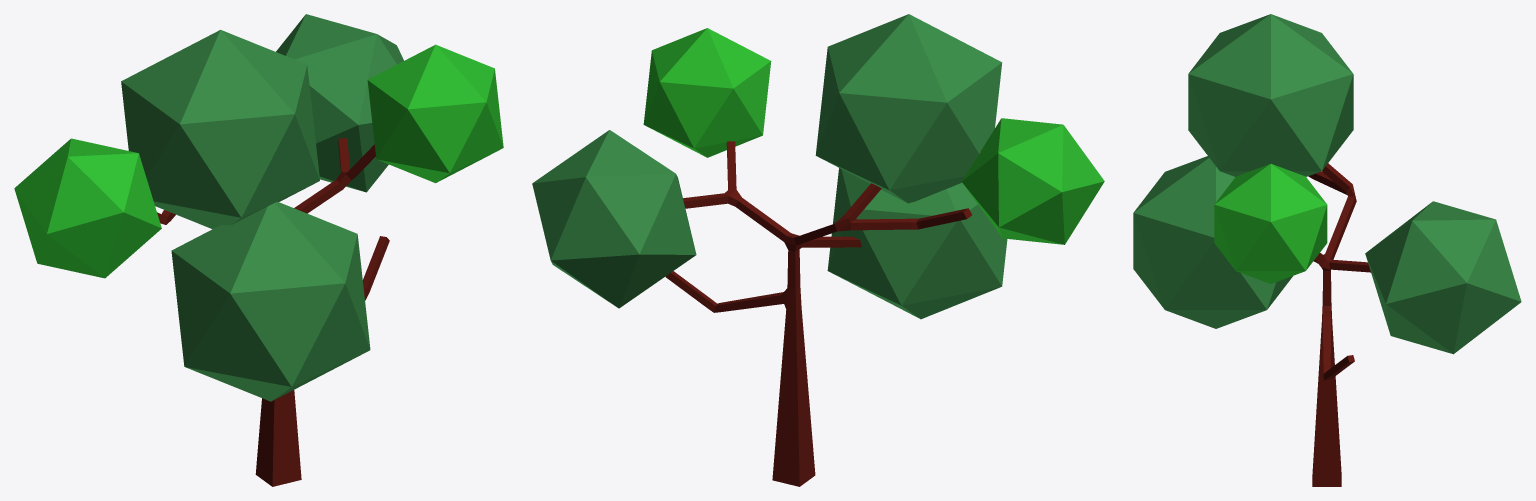
Rendered from Tree.glb.
3 views of the same model, side by side, from view 1: azimuth 30°, elevation 25°; view 2: azimuth 150°, elevation 25°; view 3: azimuth 270°, elevation 25° (orthographic). The views are drawn at different scales.
Visible parts, largest first — view 1: Icosphere.004, Icosphere.003, Icosphere.005, Icosphere.001, Icosphere.002, Cube; view 2: Icosphere.003, Icosphere.002, Icosphere.004, Cube, Icosphere.005, Icosphere.001; view 3: Icosphere.003, Icosphere.002, Icosphere.004, Icosphere.001, Cube.
Part boxes in pixels (x1,y1,x2,y2): Icosphere.004: (171,201,370,401); Icosphere.003: (121,29,319,228); Icosphere.005: (14,138,161,278); Icosphere.001: (367,44,503,183); Icosphere.002: (276,14,403,192); Cube: (157,138,389,486); Icosphere.003: (815,14,1002,203); Icosphere.002: (532,130,696,308); Icosphere.004: (827,168,1007,319); Cube: (665,141,971,486); Icosphere.005: (961,118,1104,244); Icosphere.001: (643,28,771,157); Icosphere.003: (1188,14,1353,176); Icosphere.002: (1365,201,1521,354); Icosphere.004: (1133,156,1292,328); Icosphere.001: (1214,163,1327,283); Cube: (1308,163,1370,486).
Size of the model in its own units: 5.5 by 5.39 by 4.43.
